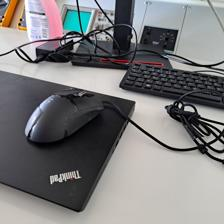mouse: (23, 87, 103, 144)
